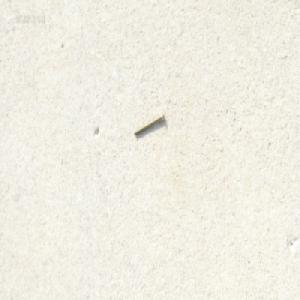Bolt: (133, 111, 164, 136)
